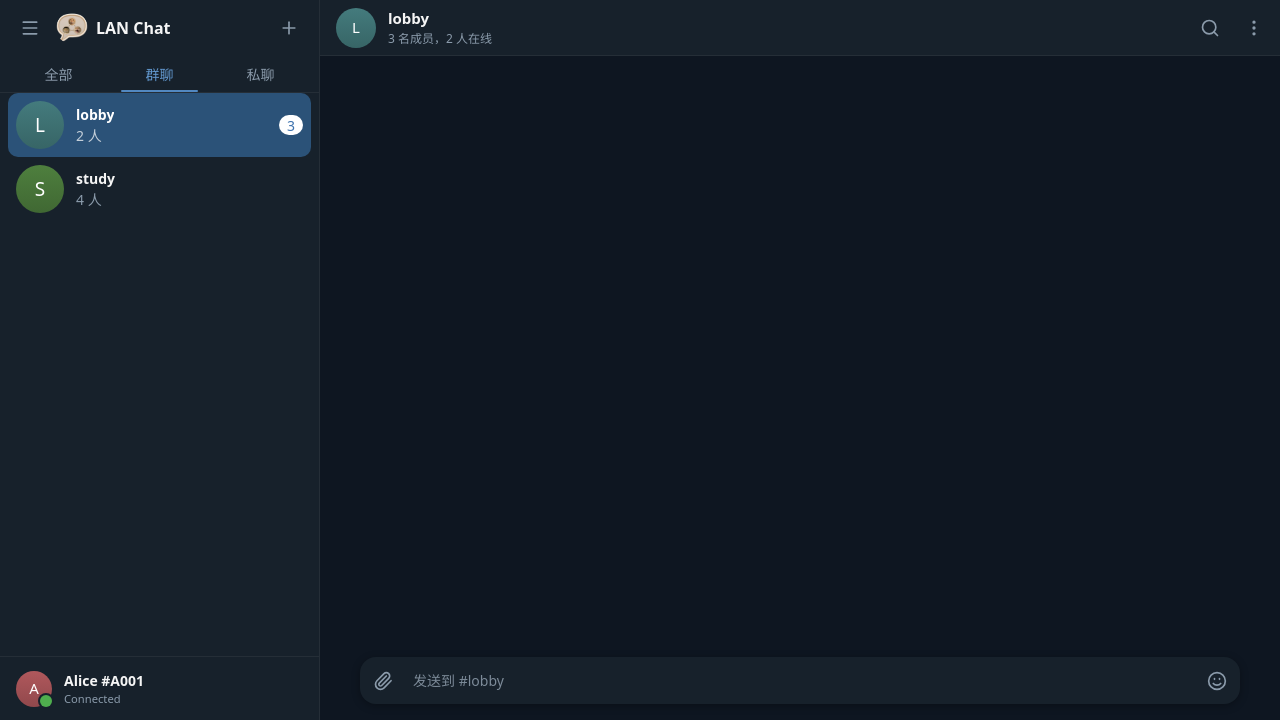
Scenario: WorkspacePage › reports online members rather than total member records
Click the button with aria-label "会话信息" at (356, 28), box left=328, top=3, right=1184, bottom=52
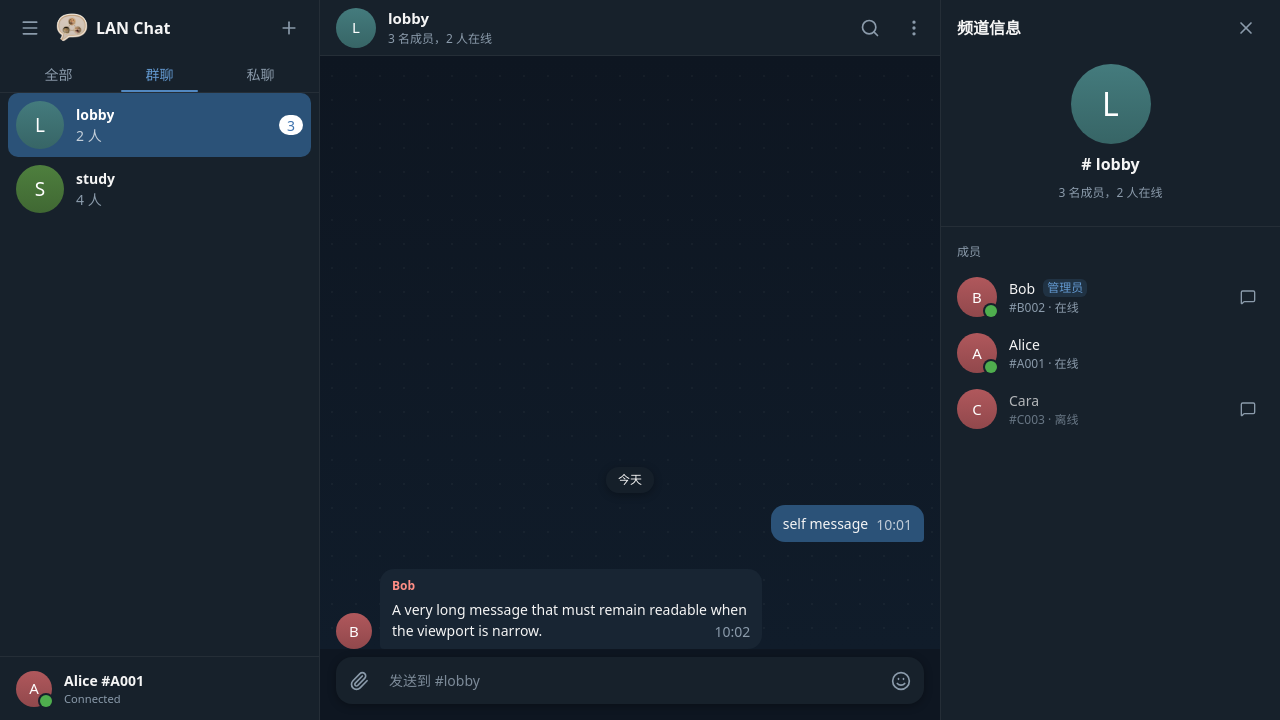
Expected: the text named "在线成员数量" reads "2", left=1116, top=184, right=1123, bottom=201
